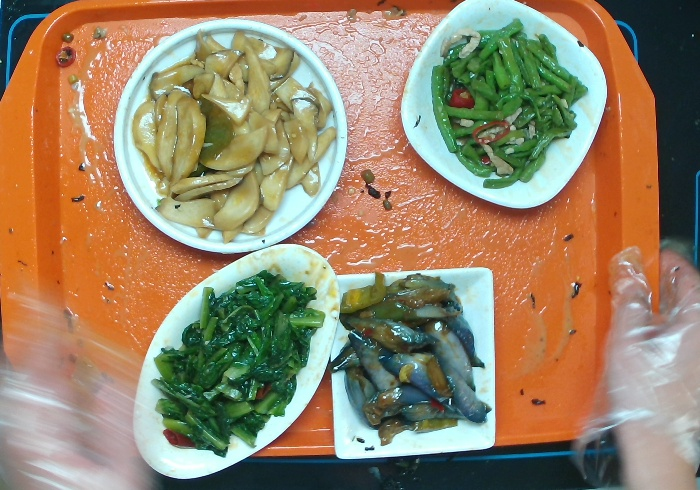HZYJPL-Si_Fang_Die: (317, 262, 505, 464)
HZYJPL-Si_Fang_Yuan_Die: (390, 1, 612, 215)
HZYJPL-Xiao_Yu_Die: (124, 239, 346, 481)
HZYJPL-Xiao_Yuan_Die: (110, 14, 352, 256)
